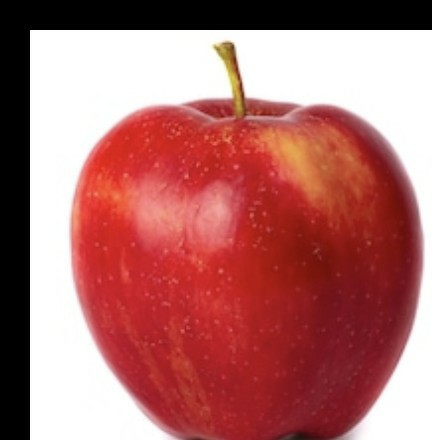fresh_apple: (76, 99, 428, 440)
